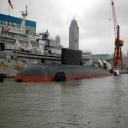submarine: (15, 49, 114, 82)
